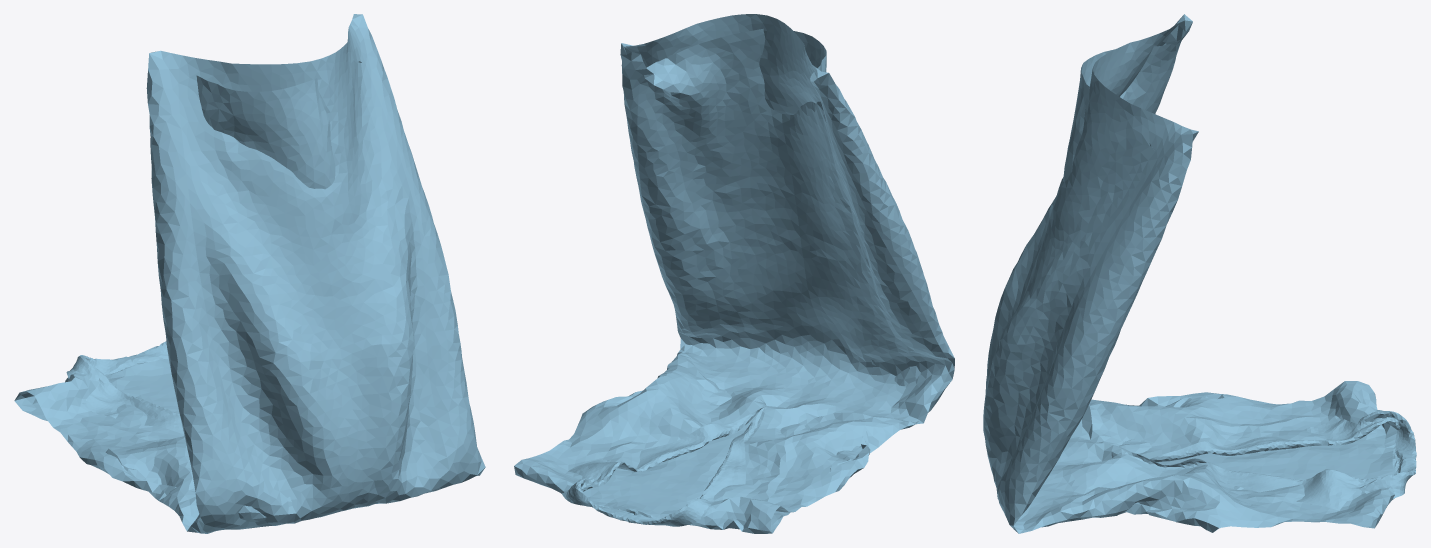
File: frame_14.glb
3 renders of one model, left to right at view 1: azimuth 30°, elevation 25°; view 2: azimuth 150°, elevation 25°; view 3: azimuth 270°, elevation 25°, orthographic. The views are drawn at different scales.
Visible parts, largest first — view 1: frame_14.obj; view 2: frame_14.obj; view 3: frame_14.obj.
Boxes of the visible parts, x1,y1,x2,y2 form: frame_14.obj: (14,14,485,533); frame_14.obj: (514,14,954,533); frame_14.obj: (983,14,1416,533).
Bounding box in the file's own units: 0.6168 × 0.8527 × 0.8215.
